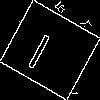I: (24, 24, 58, 71)
